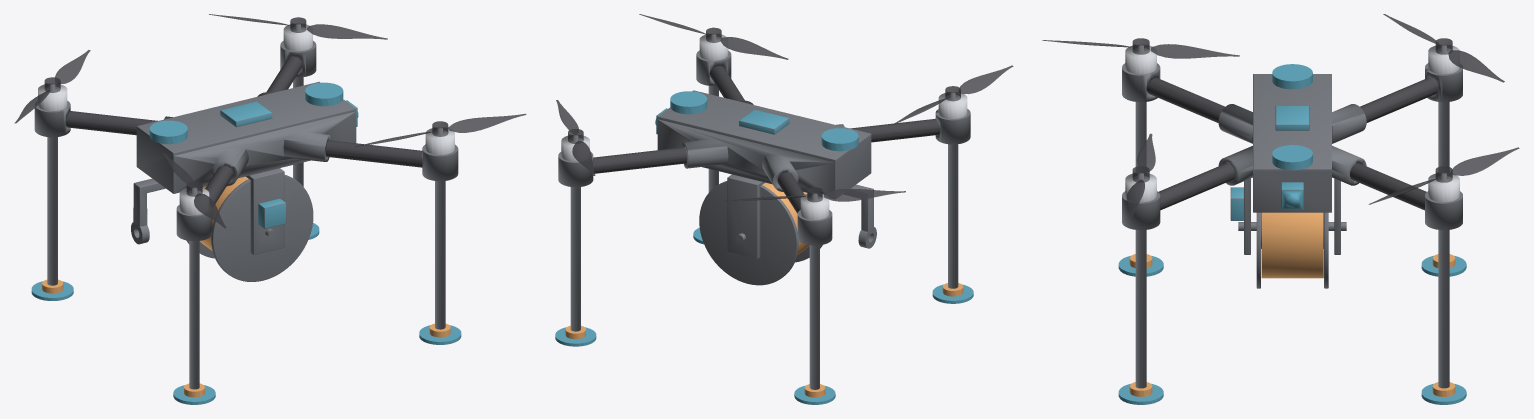
The model's file is theseus.glb.
3 renders of one model, left to right at view 1: azimuth 30°, elevation 25°; view 2: azimuth 150°, elevation 25°; view 3: azimuth 270°, elevation 25°, orthographic. The views are drawn at different scales.
Parts seen in each view (by area): view 1: Theseus V1; view 2: Theseus V1; view 3: Theseus V1.
Boxes of the visible parts, x1,y1,x2,y2 form: Theseus V1: (14, 14, 526, 404); Theseus V1: (555, 14, 1013, 404); Theseus V1: (1042, 14, 1519, 404).
Size of the model in its own units: 0.4295 by 0.221 by 0.4237.
